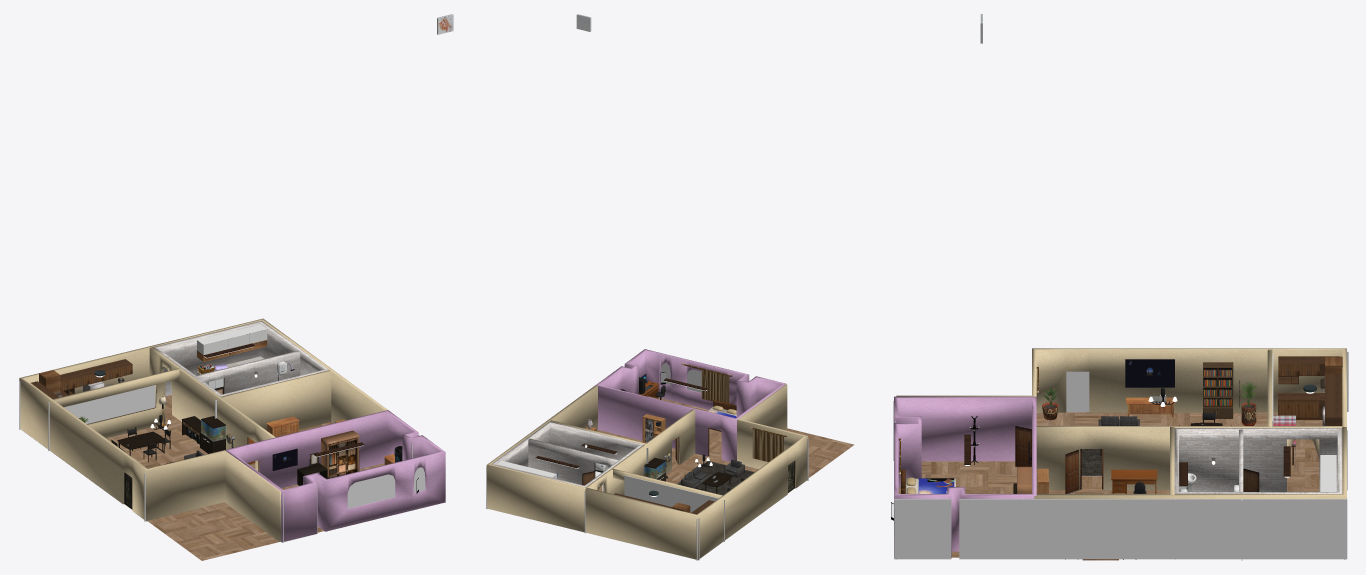
Rendered from MaisonV3.glb.
3 views of the same model, side by side, from view 1: azimuth 30°, elevation 25°; view 2: azimuth 150°, elevation 25°; view 3: azimuth 270°, elevation 25° (orthographic). The views are drawn at different scales.
Parts seen in each view (by area): view 1: wall, walls, floor, wall.001, MurFictif.020, MurFictif.001, closet, bathcab.002, bathcab.001, table; view 2: wall, walls, wall.001, floor, MurFictif.020, curtain, curtain.001, Plane, Wardrobe_01; view 3: MurFictif.006, wall, walls, wall.001, floor, MurFictif.002, libr, Cube.019_atlas_dormitorioelectro_0.001, MurFictif_PorteSortie, Cube.012_atlas_mueblesDormitorio1_0.001, Chest_drawers_05.001_Chest_drawers_05_0.002, Plane.001 (+4 smaller).
Part boxes in pixels (x1,y1,x2,y2): wall: (19,318,387,541); walls: (225,410,445,542); floor: (106,389,384,560); wall.001: (153,320,328,396); MurFictif.020: (48,385,155,450); MurFictif.001: (347,467,425,508); closet: (321,430,359,478); bathcab.002: (222,324,267,355); bathcab.001: (197,334,228,361); table: (117,431,165,455); wall: (486,384,807,559); walls: (595,349,786,462); wall.001: (491,421,643,491); floor: (596,396,854,492); MurFictif.020: (624,475,724,541); curtain: (681,363,732,402); curtain.001: (750,427,786,461); Plane: (676,461,754,495); Wardrobe_01: (642,414,665,443); MurFictif.006: (959,499,1347,559); wall: (896,348,1346,498); walls: (894,396,1036,557); wall.001: (1174,428,1342,493); floor: (898,412,1322,557); MurFictif.002: (894,499,951,559); libr: (1203,362,1233,418); Cube.019_atlas_dormitorioelectro_0.001: (1125,359,1174,387); MurFictif_PorteSortie: (1066,371,1089,412); Cube.012_atlas_mueblesDormitorio1_0.001: (1111,469,1157,493); Chest_drawers_05.001_Chest_drawers_05_0.002: (1126,397,1175,417); Plane.001: (1015,426,1031,466).
Size of the model in its own units: 18.06 by 27.11 by 20.1.
28 materials, 26 textured.
